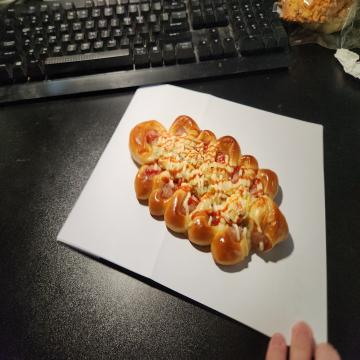pizza_bread: (129, 116, 287, 266)
